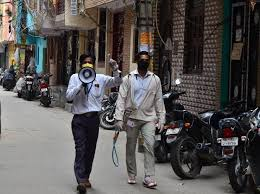mask: (79, 54, 97, 76), (136, 50, 150, 71)
